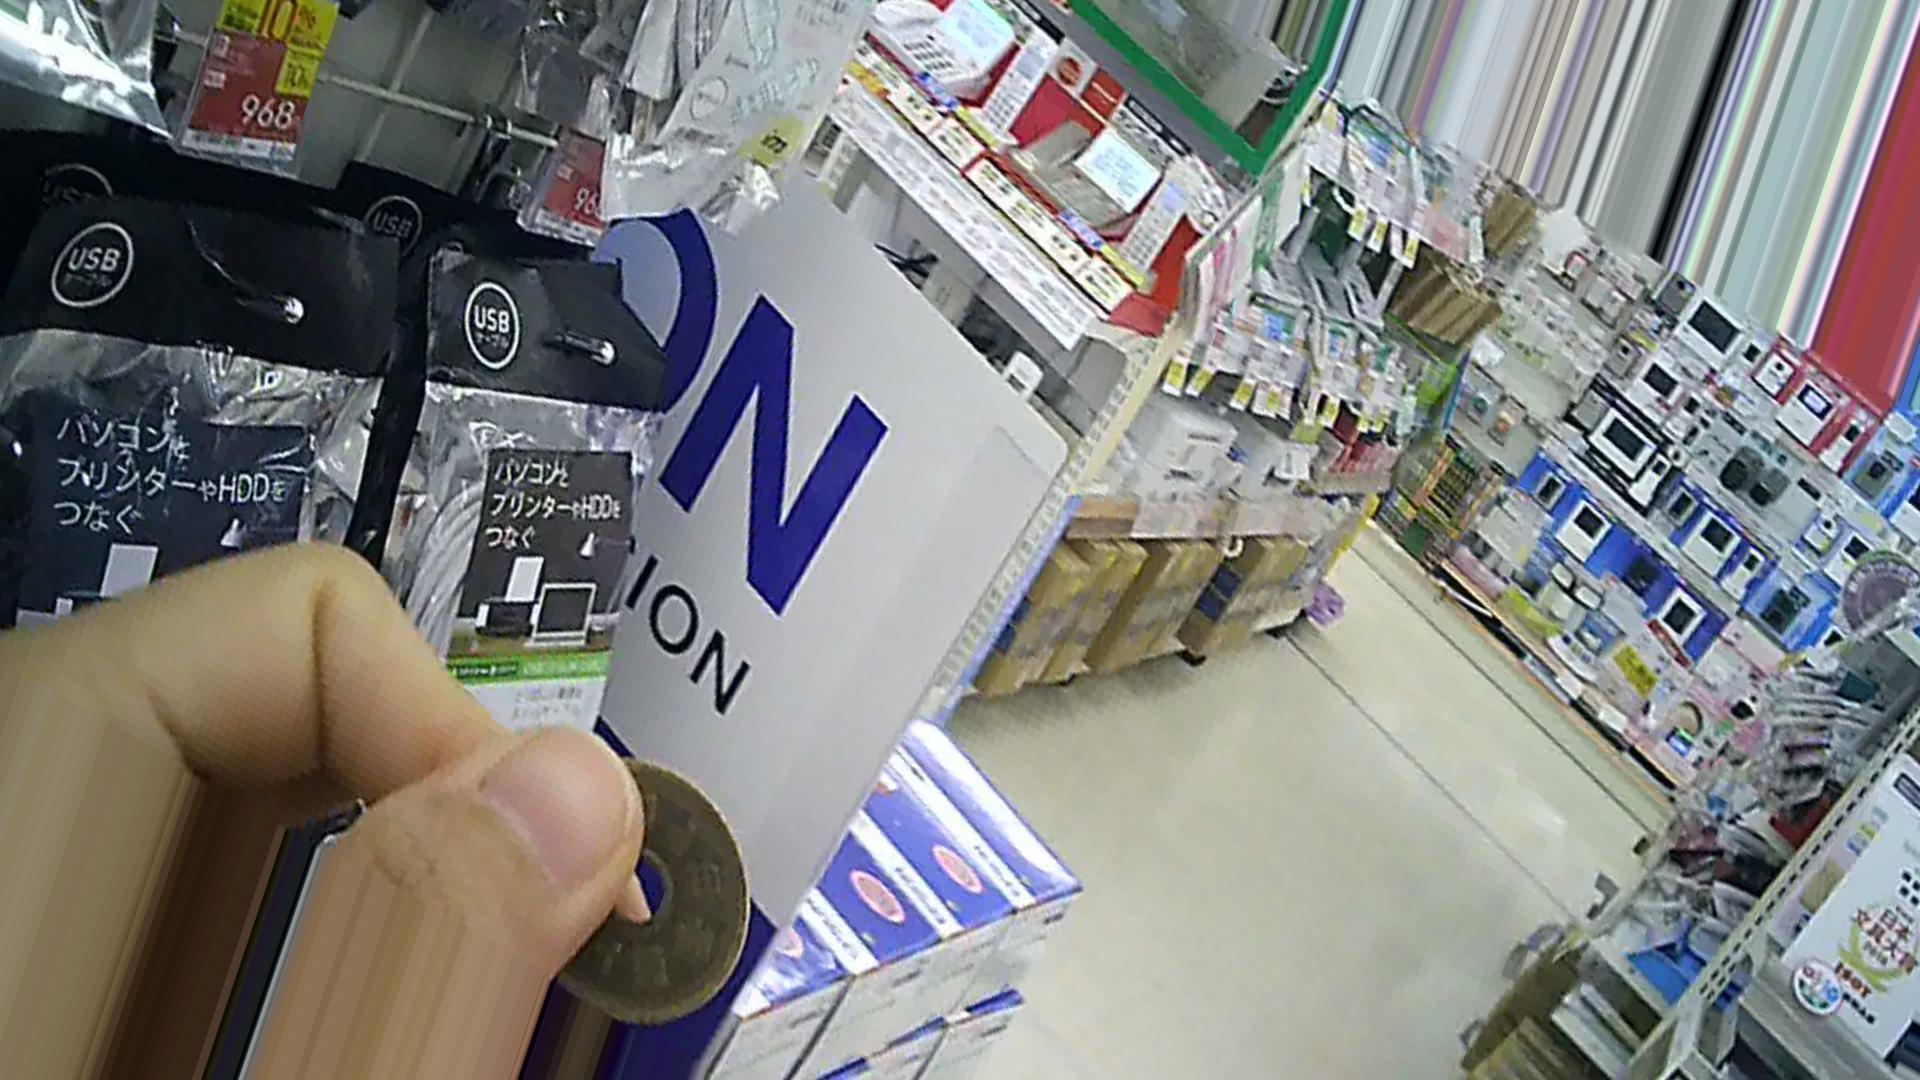5 Yen: (543, 748, 762, 1033)
